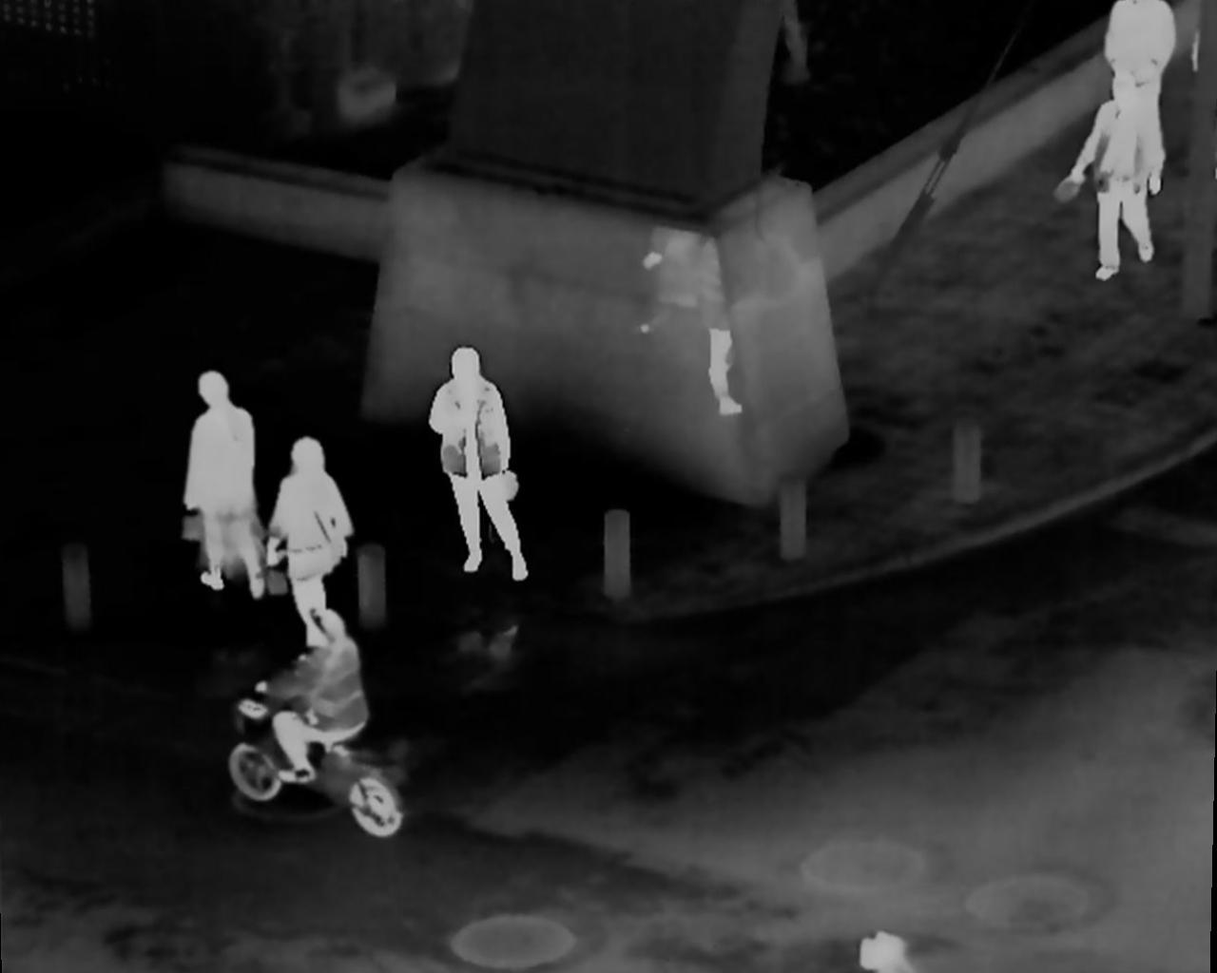person: (426, 345, 535, 574), (260, 605, 369, 793), (1057, 72, 1155, 280), (180, 369, 264, 595), (261, 439, 347, 639)
